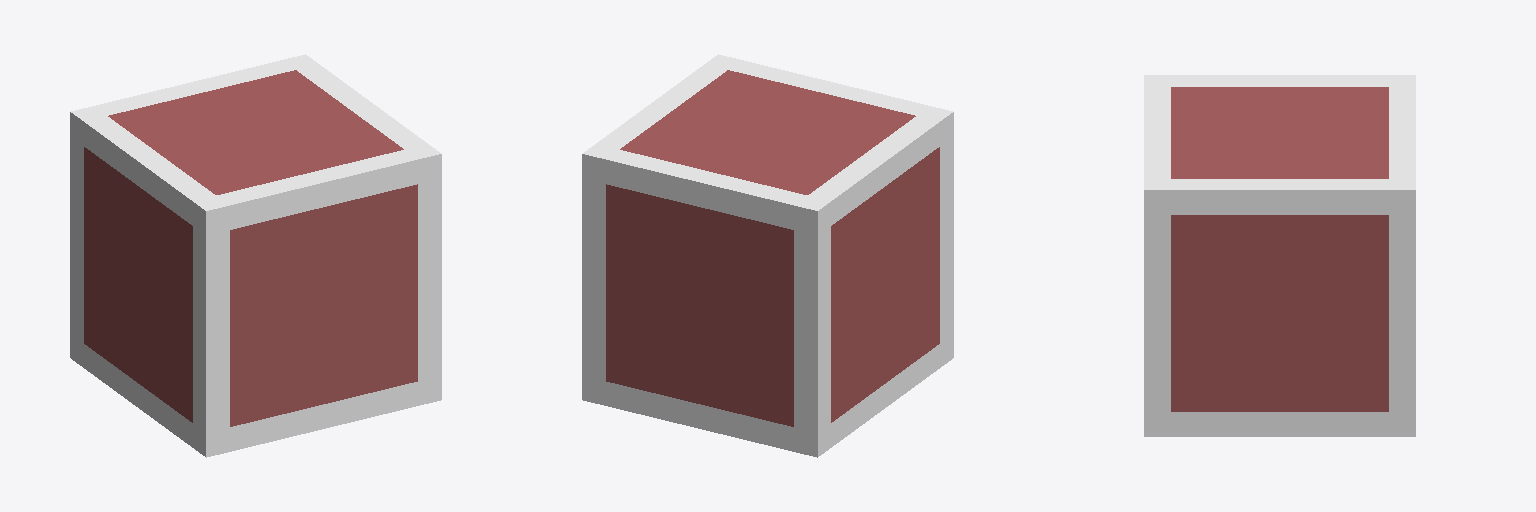
File: ring_cube.obj
The picture shows the model from 3 angles: view 1: azimuth 30°, elevation 25°; view 2: azimuth 150°, elevation 25°; view 3: azimuth 270°, elevation 25°; orthographic projection.
Bounding box in the file's own units: 1 × 1 × 1.